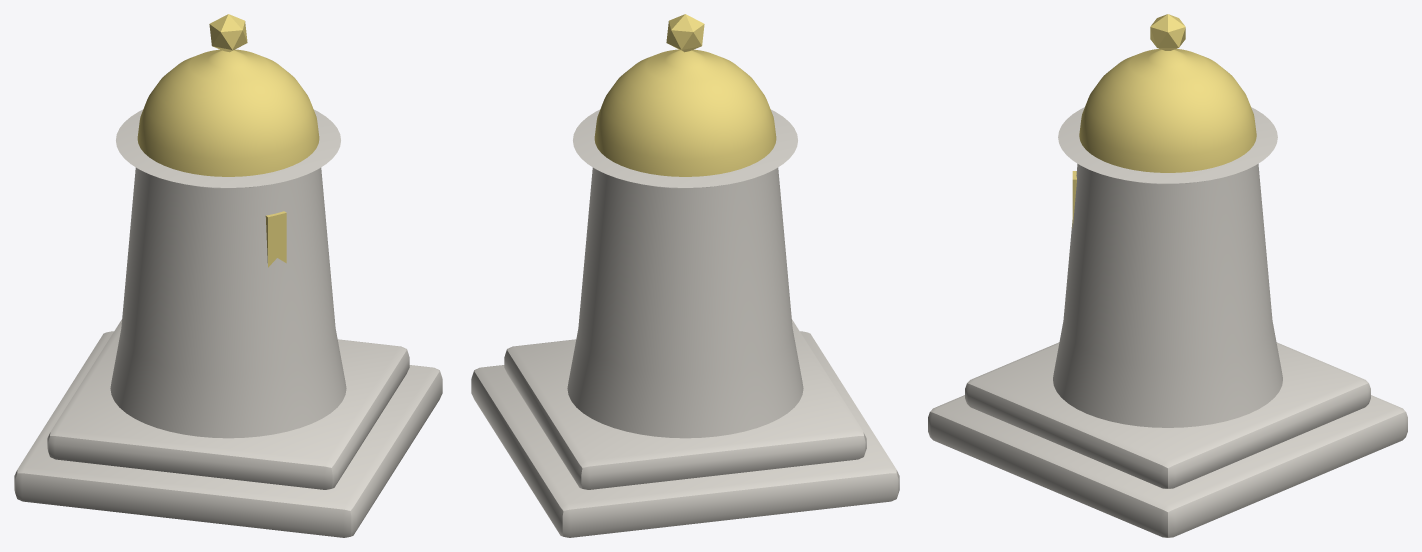
The model's file is Cartagena_Torre.fbx.
The picture shows the model from 3 angles, left to right: view 1: azimuth 30°, elevation 25°; view 2: azimuth 150°, elevation 25°; view 3: azimuth 270°, elevation 25°; orthographic projection. The views are drawn at different scales.
Visible parts, largest first — view 1: Cartagena_Torre; view 2: Cartagena_Torre; view 3: Cartagena_Torre.
Boxes of the visible parts, box(x1,y1,x2,y2) form: Cartagena_Torre: box(14, 14, 442, 537); Cartagena_Torre: box(471, 14, 899, 537); Cartagena_Torre: box(928, 14, 1407, 537).
Bounding box in the file's own units: 0.9168 × 0.9 × 0.9168.
